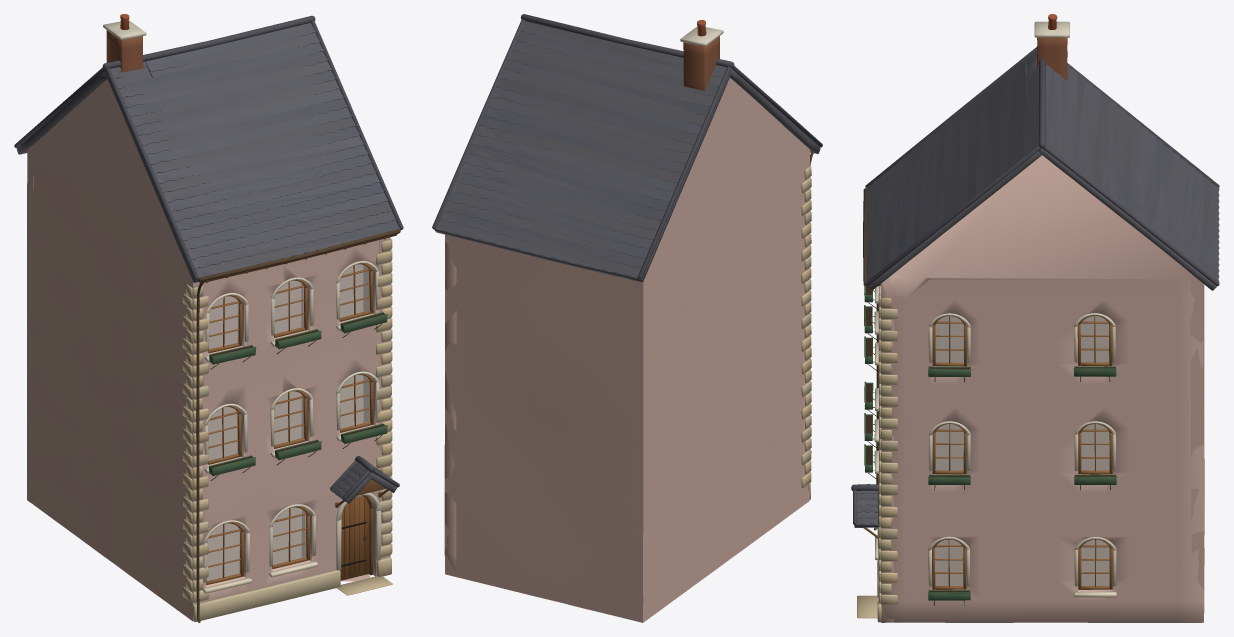
The model's file is StraightEnd_Outer1.glb.
The picture shows the model from 3 angles, left to right: view 1: azimuth 30°, elevation 25°; view 2: azimuth 150°, elevation 25°; view 3: azimuth 270°, elevation 25°; orthographic projection. The views are drawn at different scales.
Visible parts, largest first — view 1: Sammel Putz, Sammel Stein, Sammel Putz innen, Glas, Sammel Holz, Sammel Lack, Sammel Metall, Sammel Ziegel; view 2: Sammel Putz, Sammel Stein, Sammel Ziegel; view 3: Sammel Putz, Sammel Stein, Sammel Putz innen, Glas, Sammel Holz, Sammel Lack, Sammel Ziegel, Sammel Metall.
Part boxes in pixels (x1,y1,x2,y2): Sammel Putz: (27,14,390,621); Sammel Stein: (14,15,403,622); Sammel Putz innen: (207,264,369,580); Glas: (207,264,369,580); Sammel Holz: (199,234,397,584); Sammel Lack: (209,312,387,475); Sammel Metall: (196,229,400,622); Sammel Ziegel: (106,30,143,72); Sammel Putz: (444,20,809,622); Sammel Stein: (432,14,822,499); Sammel Ziegel: (683,36,719,90); Sammel Putz: (865,14,1204,622); Sammel Stein: (851,47,1219,622); Sammel Putz innen: (935,316,1109,585); Glas: (935,316,1109,585); Sammel Holz: (863,284,1112,589); Sammel Lack: (864,286,1117,600); Sammel Ziegel: (1037,37,1067,80); Sammel Metall: (863,188,1110,605).
Bounding box in the file's own units: 6.11 × 14.28 × 9.12.
